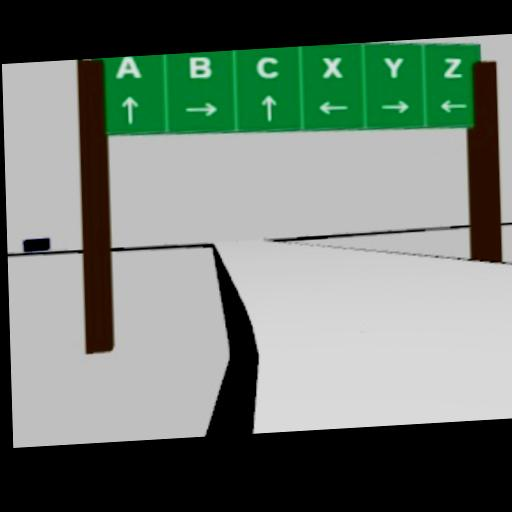A: (114, 56, 142, 79)
B: (187, 55, 212, 78)
C: (255, 55, 280, 80)
Left: (317, 99, 349, 114), (439, 97, 469, 112)
Right: (184, 100, 219, 119), (381, 99, 411, 114)
Straight: (119, 95, 138, 125), (259, 93, 277, 121)
X: (320, 56, 343, 79)
Y: (381, 55, 404, 79)
Z: (442, 55, 463, 78)
